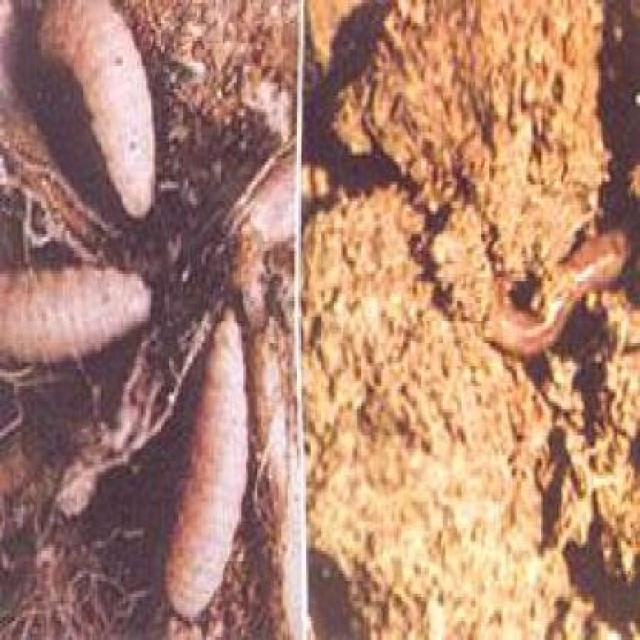whorl-maggot: (162, 314, 253, 625), (32, 0, 158, 218), (1, 261, 153, 361)
